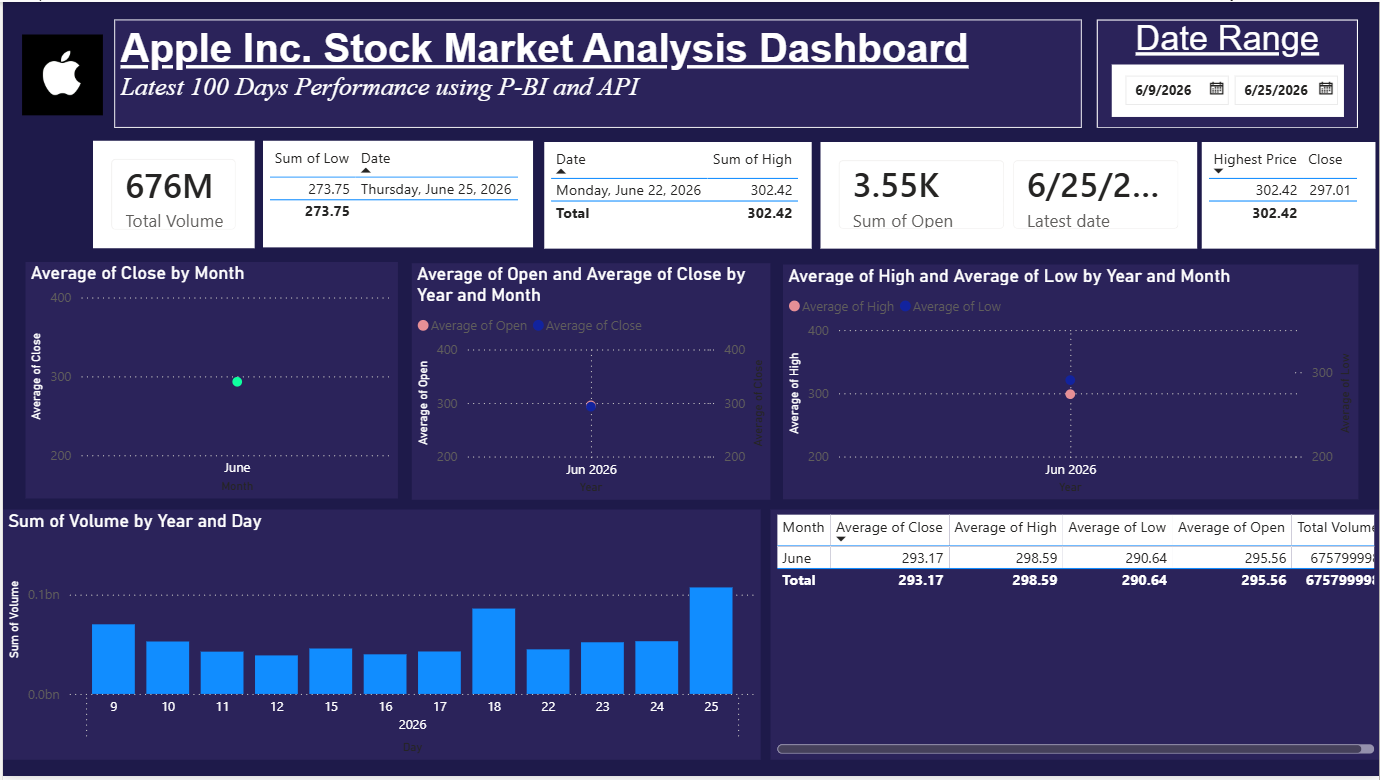

The page's visual inventory and layout, read from the dashboard file:
{"tool":"powerbi","page":{"name":"Report","canvas":[1280,720],"ordinal":1},"visuals":[{"type":"shape","box":[1017.4,16.3,243,101.2],"z":0},{"type":"textbox","box":[103.5,16.3,900,101.2],"z":1000},{"type":"slicer","fields":{"Values":["Apple_stock_Data.Date"]},"box":[1031.4,58.1,216.3,48.8],"z":2000},{"type":"image","box":[8.2,30.2,94.7,75.5],"z":3000},{"type":"cardVisual","fields":{"Data":["Apple_stock_Data.Total Volume"]},"box":[83.7,129.1,150,100],"z":4000},{"type":"cardVisual","fields":{"Data":["Sum(Apple_stock_Data.Open)","Apple_stock_Data.Latest date"]},"box":[760.5,130.2,350,98.8],"z":5000},{"type":"tableEx","fields":{"Values":["Sum(Apple_stock_Data.Low)","Apple_stock_Data.Date"]},"box":[241.9,129.1,251.2,98.8],"z":6000},{"type":"tableEx","fields":{"Values":["Apple_stock_Data.Date","Sum(Apple_stock_Data.High)"]},"box":[503.5,130.2,248.8,98.8],"z":7000},{"type":"tableEx","fields":{"Values":["Apple_stock_Data.Highest Price","Apple_stock_Data.Close"]},"box":[1115.1,130.2,161.6,98.8],"z":8000},{"type":"lineChart","fields":{"Y":["Avg(Apple_stock_Data.Close)"],"Category":["Apple_stock_Data.Date.Variation.Date Hierarchy.Month"]},"box":[20.9,241.9,346.5,219.8],"z":9000},{"type":"lineChart","fields":{"Category":["Apple_stock_Data.Date.Variation.Date Hierarchy.Year","Apple_stock_Data.Date.Variation.Date Hierarchy.Month"],"Y":["Avg(Apple_stock_Data.Open)"],"Y2":["Avg(Apple_stock_Data.Close)"]},"box":[380.2,243,333.7,219.8],"z":10000},{"type":"lineChart","fields":{"Y":["Avg(Apple_stock_Data.High)"],"Y2":["Avg(Apple_stock_Data.Low)"],"Category":["Apple_stock_Data.Date.Variation.Date Hierarchy.Year","Apple_stock_Data.Date.Variation.Date Hierarchy.Month"]},"box":[725.6,244.2,534.9,218.6],"z":11000},{"type":"columnChart","fields":{"Y":["Apple_stock_Data.Total Volume"],"Category":["Apple_stock_Data.Date.Variation.Date Hierarchy.Year","Apple_stock_Data.Date.Variation.Date Hierarchy.Day"]},"box":[0,472.1,704.7,232.6],"z":12000},{"type":"tableEx","fields":{"Values":["Apple_stock_Data.Date.Variation.Date Hierarchy.Month","Avg(Apple_stock_Data.Close)","Avg(Apple_stock_Data.High)","Avg(Apple_stock_Data.Low)","Avg(Apple_stock_Data.Open)","Apple_stock_Data.Total Volume"]},"box":[714,472.1,566.3,232.6],"z":13000}]}

Visuals, with their boxes in screenshot pixels (x1, y1, x2, y2), scaled from the page's 1280x720 canvas onto the 1380x780 screenshot:
shape: BBox(1097, 18, 1359, 127)
textbox: BBox(112, 18, 1082, 127)
slicer - Apple_stock_Data.Date: BBox(1112, 63, 1345, 116)
image: BBox(9, 33, 111, 115)
cardVisual - Apple_stock_Data.Total Volume: BBox(90, 140, 252, 248)
cardVisual - Sum(Apple_stock_Data.Open) x Apple_stock_Data.Latest date: BBox(820, 141, 1197, 248)
tableEx - Sum(Apple_stock_Data.Low) x Apple_stock_Data.Date: BBox(261, 140, 532, 247)
tableEx - Apple_stock_Data.Date x Sum(Apple_stock_Data.High): BBox(543, 141, 811, 248)
tableEx - Apple_stock_Data.Highest Price x Apple_stock_Data.Close: BBox(1202, 141, 1376, 248)
lineChart - Avg(Apple_stock_Data.Close) x Apple_stock_Data.Date.Variation.Date Hierarchy.Month: BBox(23, 262, 396, 500)
lineChart - Apple_stock_Data.Date.Variation.Date Hierarchy.Year x Apple_stock_Data.Date.Variation.Date Hierarchy.Month: BBox(410, 263, 770, 501)
lineChart - Avg(Apple_stock_Data.High) x Avg(Apple_stock_Data.Low): BBox(782, 265, 1359, 501)
columnChart - Apple_stock_Data.Total Volume x Apple_stock_Data.Date.Variation.Date Hierarchy.Year: BBox(0, 511, 760, 763)
tableEx - Apple_stock_Data.Date.Variation.Date Hierarchy.Month x Avg(Apple_stock_Data.Close): BBox(770, 511, 1379, 763)
